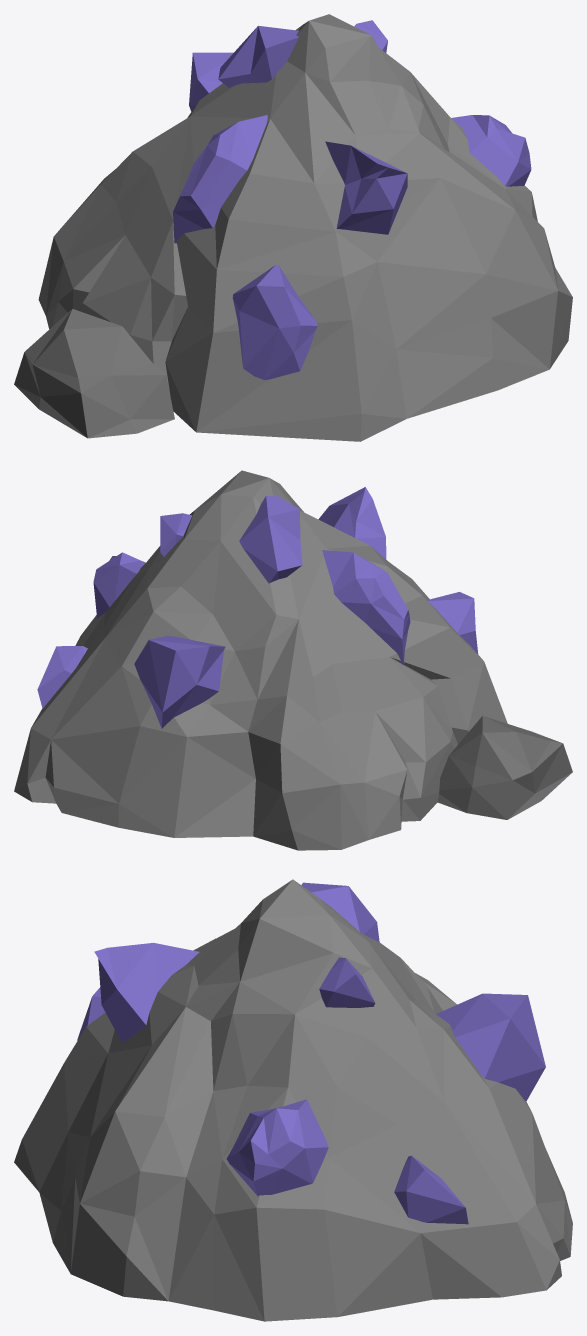
File: _stone_diamond.fbx
3 renders of one model, top to bottom at view 1: azimuth 30°, elevation 25°; view 2: azimuth 150°, elevation 25°; view 3: azimuth 270°, elevation 25°, orthographic. The views are drawn at different scales.
Parts seen in each view (by area): view 1: stone_diamond; view 2: stone_diamond; view 3: stone_diamond.
Part boxes in pixels (box(x1,y1,x2,y2)): stone_diamond: box(14, 14, 572, 441); stone_diamond: box(14, 470, 572, 850); stone_diamond: box(14, 879, 572, 1321).
Bounding box in the file's own units: 253 × 143 × 224.
